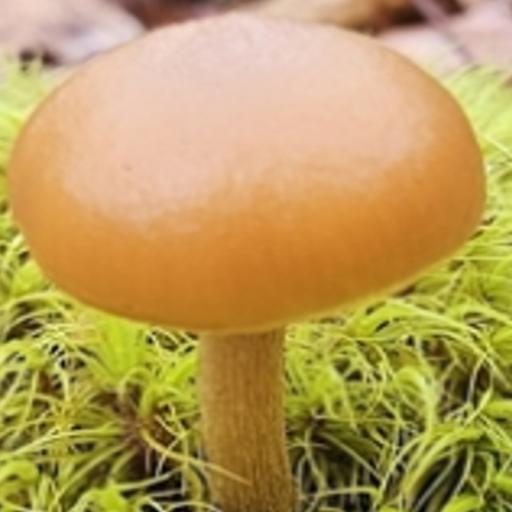mushroom: (13, 13, 489, 455)
